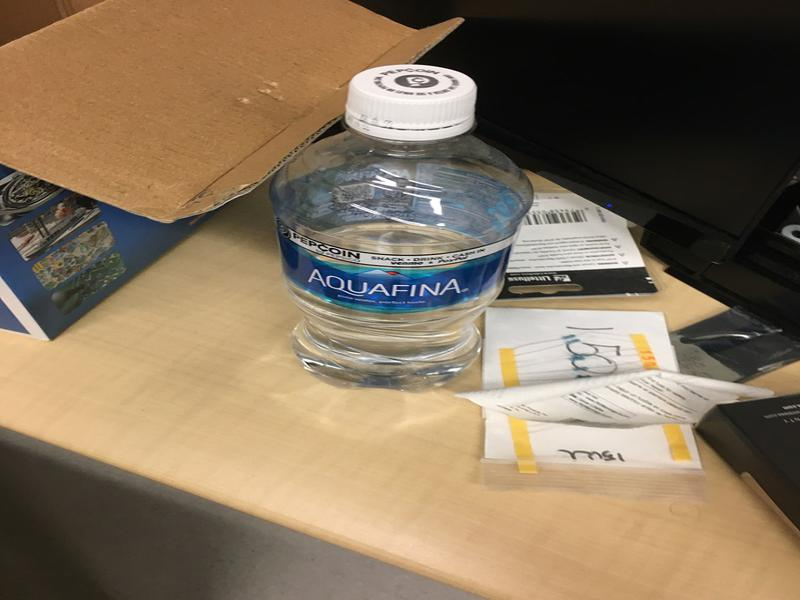bottle: (265, 61, 538, 397)
